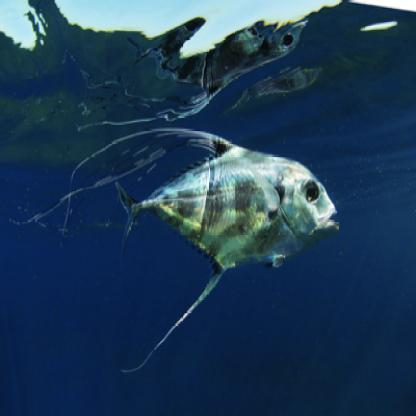Carangidae -Jacks-: (17, 127, 339, 375)
